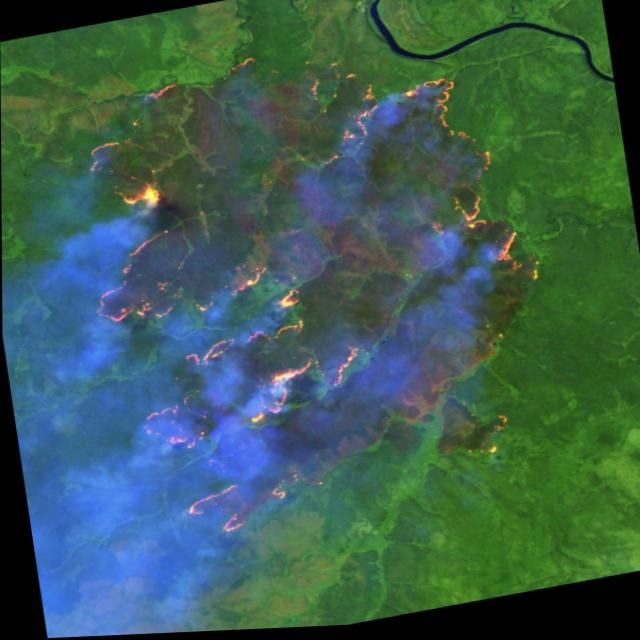fire: (53, 2, 579, 562)
